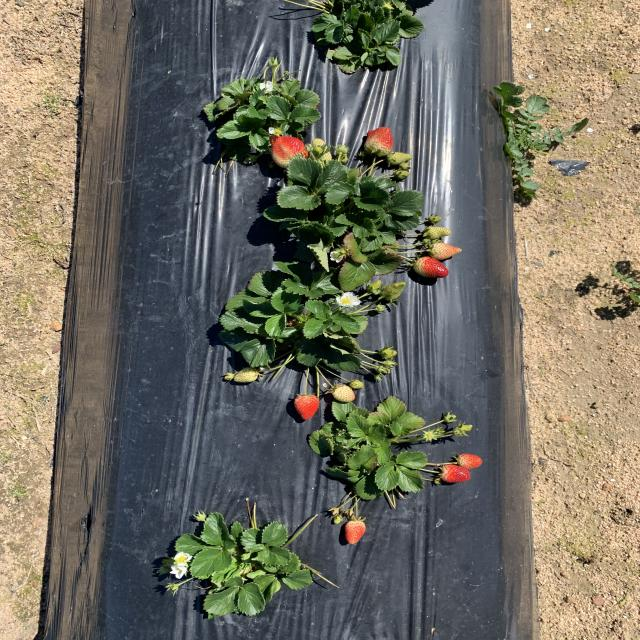unripe: (267, 133, 308, 167), (365, 126, 396, 152), (414, 256, 450, 278), (293, 394, 321, 421), (437, 464, 471, 484), (344, 520, 365, 545), (456, 454, 482, 469)
